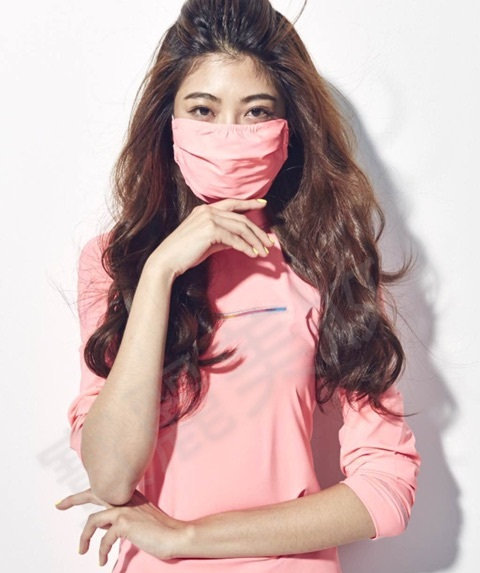face_mask: (171, 46, 286, 206)
